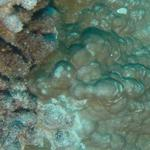alive: (3, 5, 144, 146)
